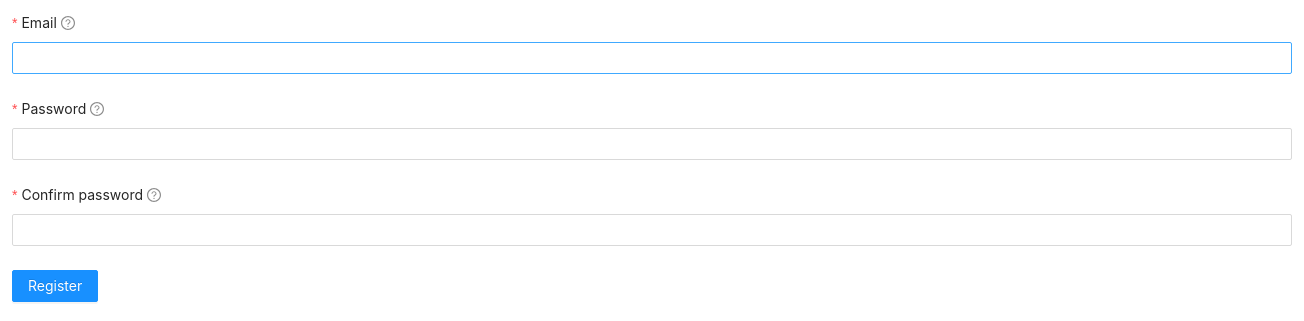
Scenario: Register form › should show password length error message
expect the text "password must have minimum 6 characters" is not shown: met
Type "123" into the password field labelled "Password".
click(652, 144); type("123")  # box x1=12 y1=128 x2=1292 y2=160
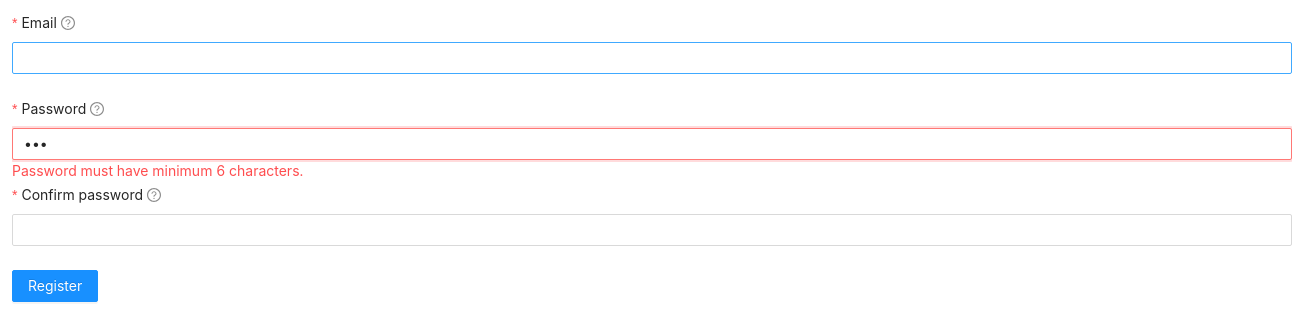
expect the text "Password must have minimum 6 characters." is shown: met, box x1=12 y1=162 x2=303 y2=179
